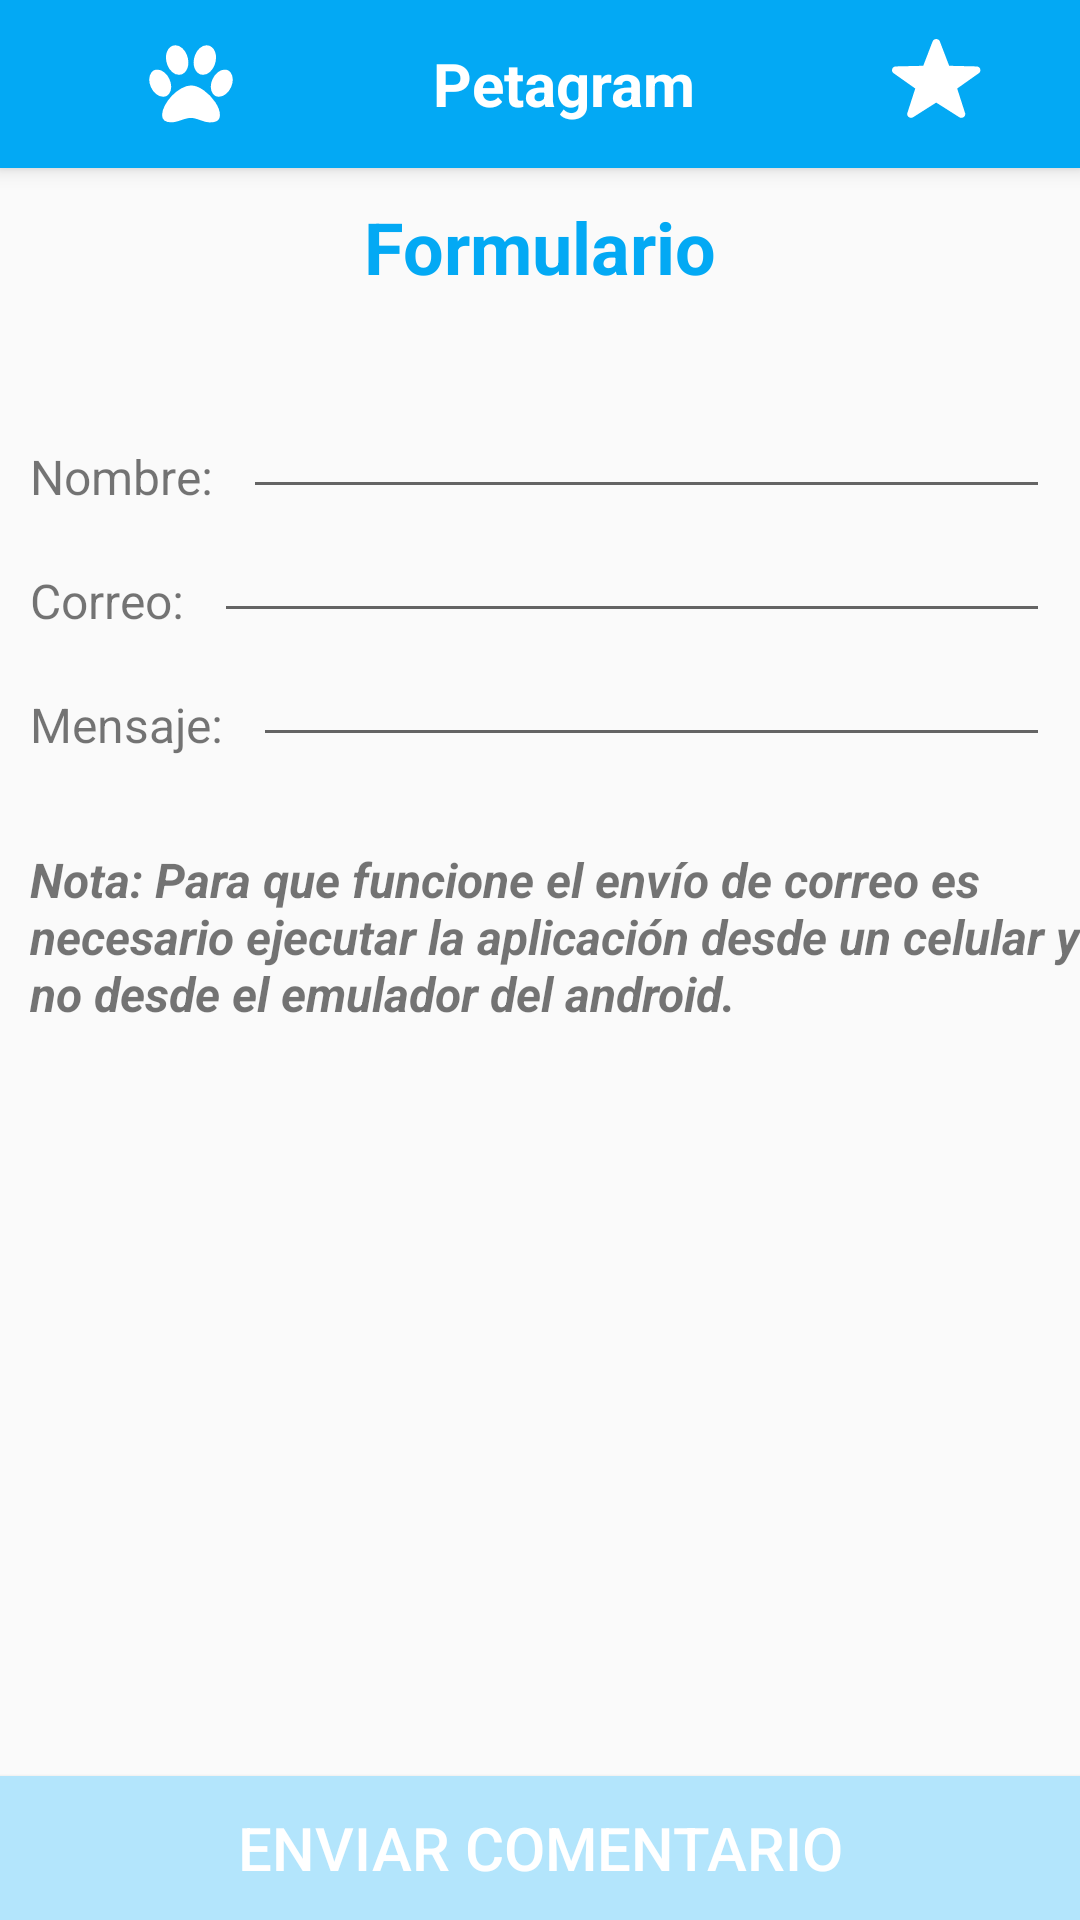

Where icons sit on this 1080x1920 app screen, as (x1, y1, x2, y2):
huella: (149, 45, 233, 123)
star: (892, 39, 981, 118)
